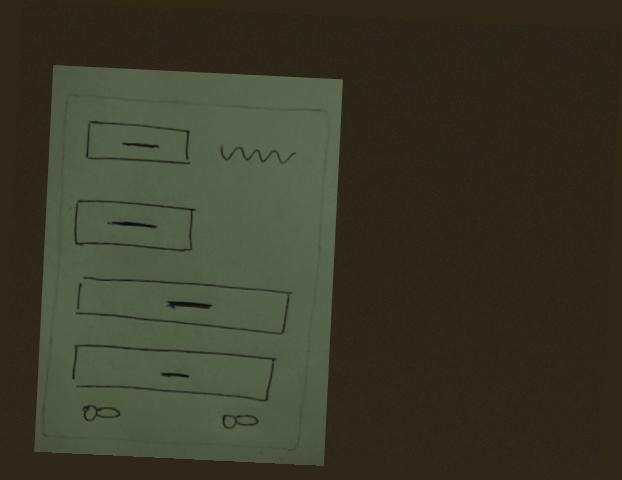button: (71, 269, 296, 341), (61, 337, 286, 408), (69, 193, 199, 253), (80, 113, 198, 174)
switch: (217, 408, 262, 435), (78, 401, 122, 428)
text: (212, 136, 302, 176)
